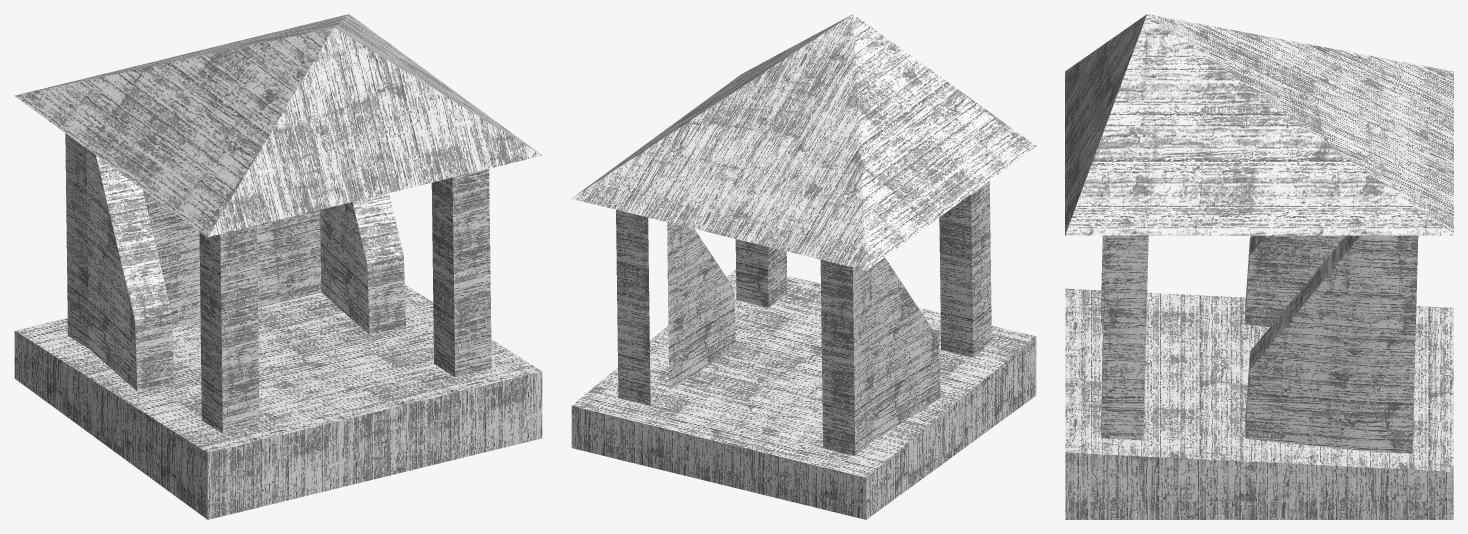
File: Model_Build2New.gltf
The picture shows the model from 3 angles, left to right: view 1: azimuth 30°, elevation 25°; view 2: azimuth 150°, elevation 25°; view 3: azimuth 270°, elevation 25°; orthographic projection. The views are drawn at different scales.
Parts seen in each view (by area): view 1: Cube; view 2: Cube; view 3: Cube.
Part boxes in pixels (bbox=[...]): Cube: bbox=[14, 14, 542, 519]; Cube: bbox=[571, 14, 1036, 519]; Cube: bbox=[1065, 14, 1453, 519].
Bounding box in the file's own units: 2.89 × 3.47 × 2.89.
1 material, 1 textured.
